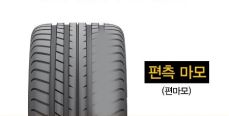bad_condition: (29, 23, 127, 116)
